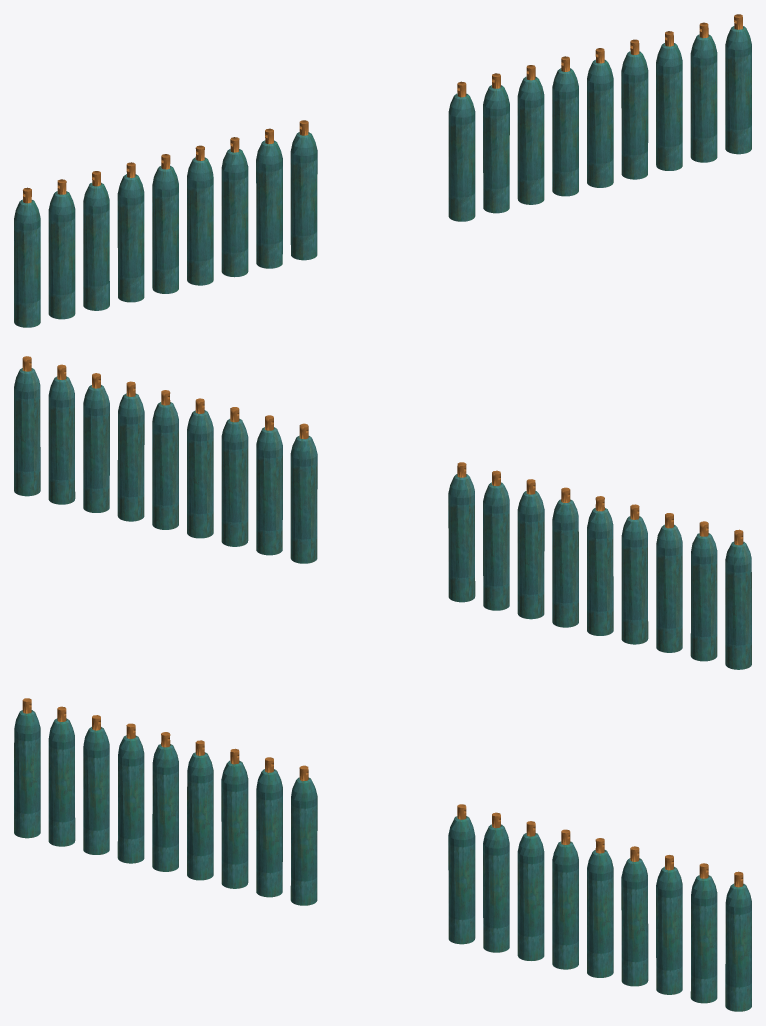
The model's file is tanqueOxigeno.obj.
3 renders of one model, top to bottom at view 1: azimuth 30°, elevation 25°; view 2: azimuth 150°, elevation 25°; view 3: azimuth 330°, elevation 25°, orthographic.
Visible parts, largest first — view 1: tanqueOxigeno.002; view 2: tanqueOxigeno.002; view 3: tanqueOxigeno.002.
Part boxes in pixels (bbox=[...]): tanqueOxigeno.002: bbox=[14, 14, 751, 327]; tanqueOxigeno.002: bbox=[14, 356, 751, 669]; tanqueOxigeno.002: bbox=[14, 698, 751, 1011].
Bounding box in the file's own units: 55.72 × 9.61 × 1.75.
4 materials, 4 textured.
